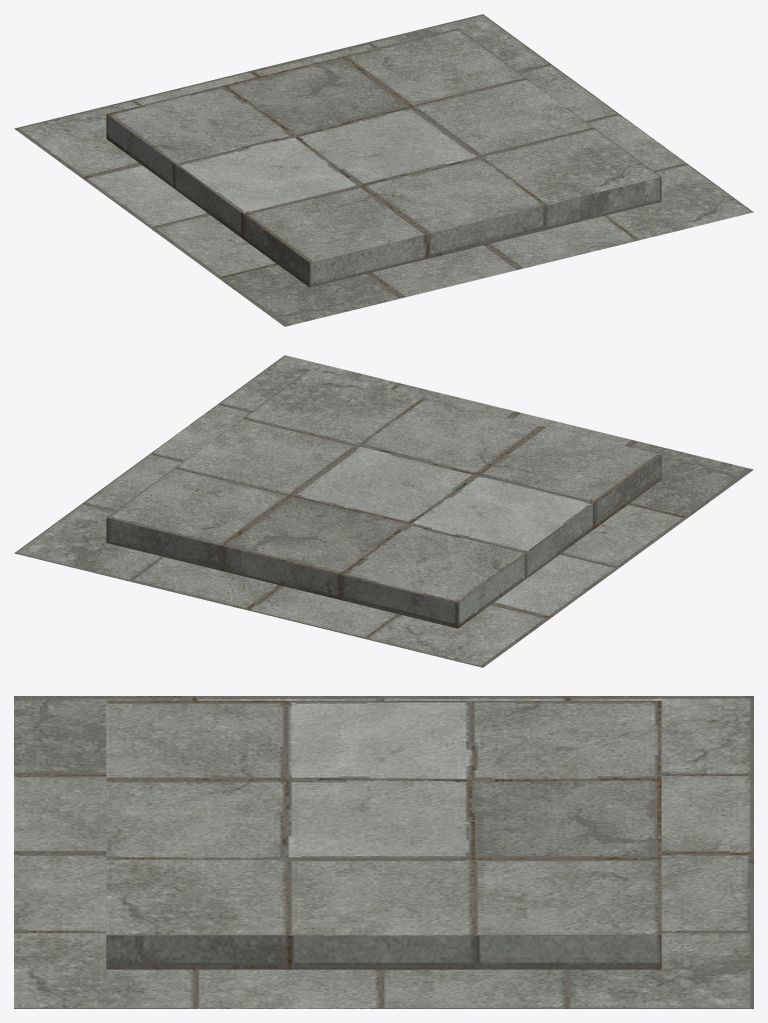
File: floor_plat_x1_2x2.fbx
3 renders of one model, top to bottom at view 1: azimuth 30°, elevation 25°; view 2: azimuth 150°, elevation 25°; view 3: azimuth 270°, elevation 25°, orthographic. The views are drawn at different scales.
Visible parts, largest first — view 1: floor_plat_x1_2x2; view 2: floor_plat_x1_2x2; view 3: floor_plat_x1_2x2.
Part boxes in pixels (<box>): floor_plat_x1_2x2: <box>14,14,753,326</box>; floor_plat_x1_2x2: <box>14,355,753,667</box>; floor_plat_x1_2x2: <box>14,696,753,1008</box>.
Bounding box in the file's own units: 200 × 10.18 × 200.
